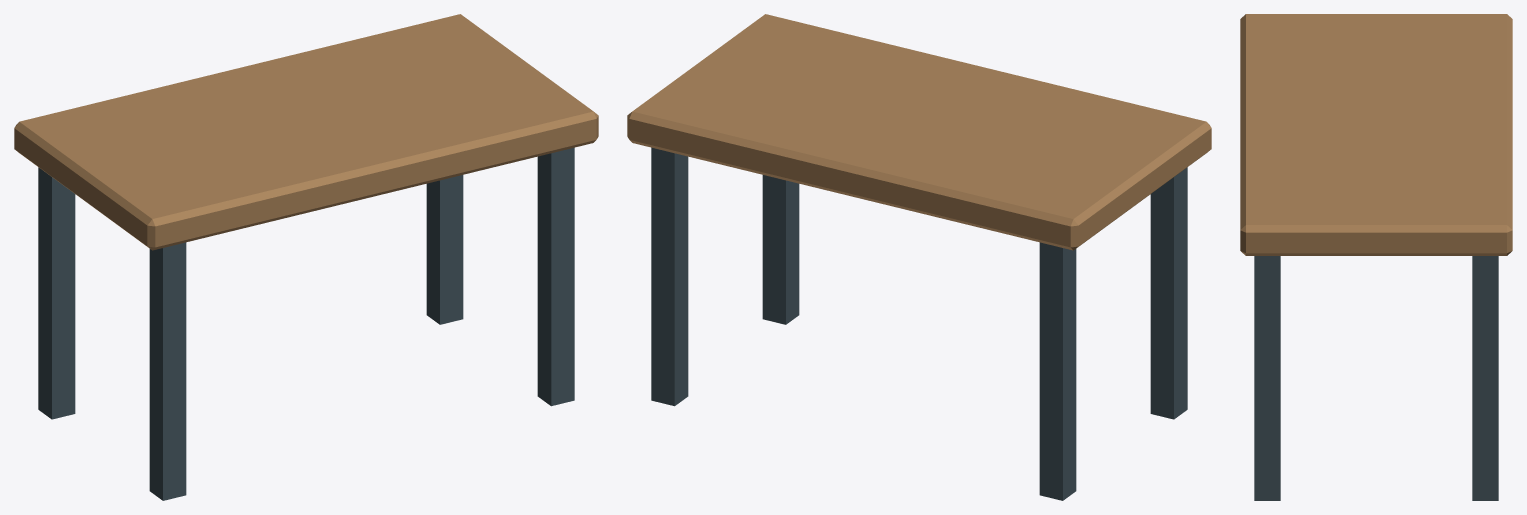
Rendered from folding_table.glb.
The picture shows the model from 3 angles, left to right: view 1: azimuth 30°, elevation 25°; view 2: azimuth 150°, elevation 25°; view 3: azimuth 270°, elevation 25°; orthographic projection.
Parts seen in each view (by area): view 1: folding_table; view 2: folding_table; view 3: folding_table.
Part boxes in pixels (<box>): folding_table: <box>14,14,598,500</box>; folding_table: <box>627,14,1211,500</box>; folding_table: <box>1240,14,1512,500</box>.
Size of the model in its own units: 1.35 by 0.825 by 0.72.
